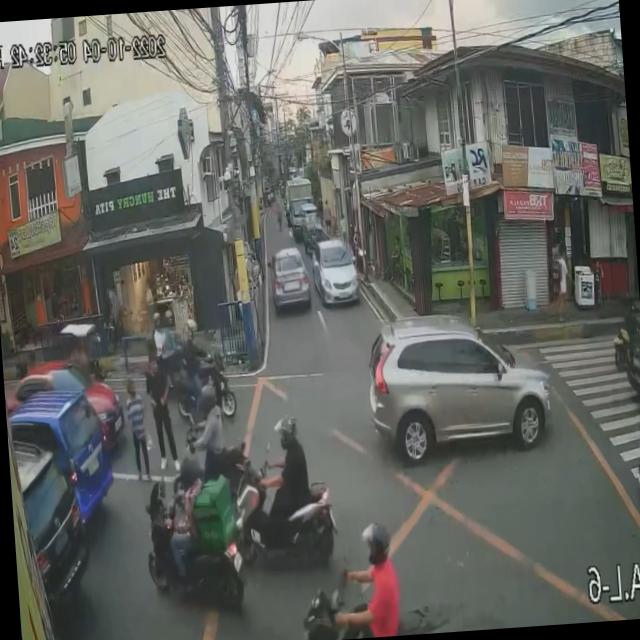full: (361, 518, 393, 566), (272, 410, 298, 452), (177, 453, 203, 492), (198, 384, 218, 416)
